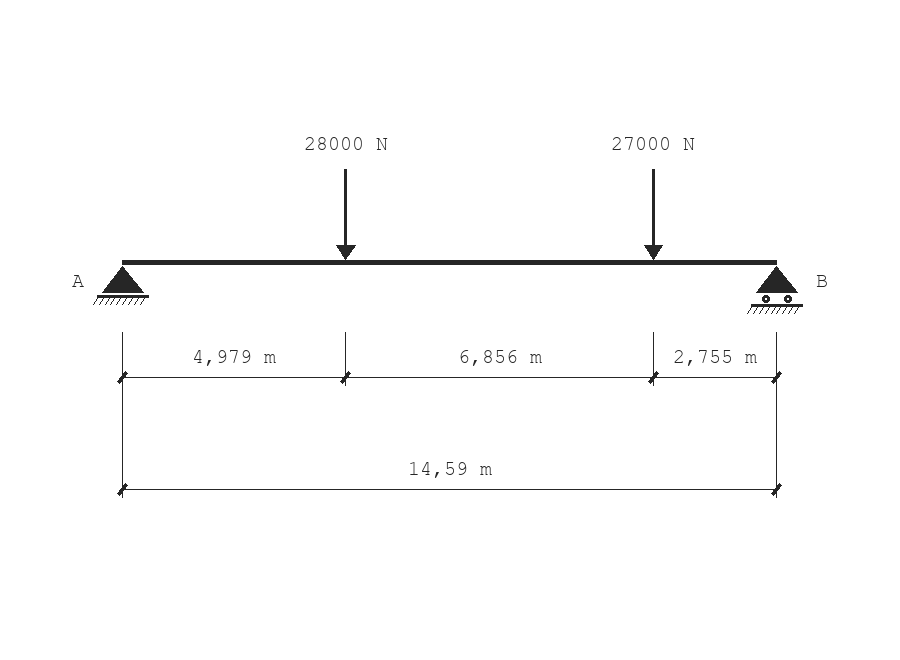pin_support: (93, 266, 149, 305)
point_load: (336, 169, 356, 260), (644, 169, 663, 260)
roller_support: (747, 266, 803, 314)
